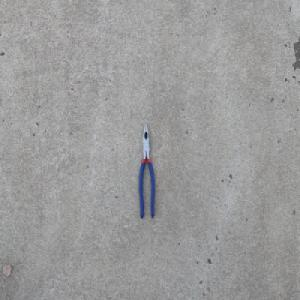Pliers: (138, 122, 155, 221)
